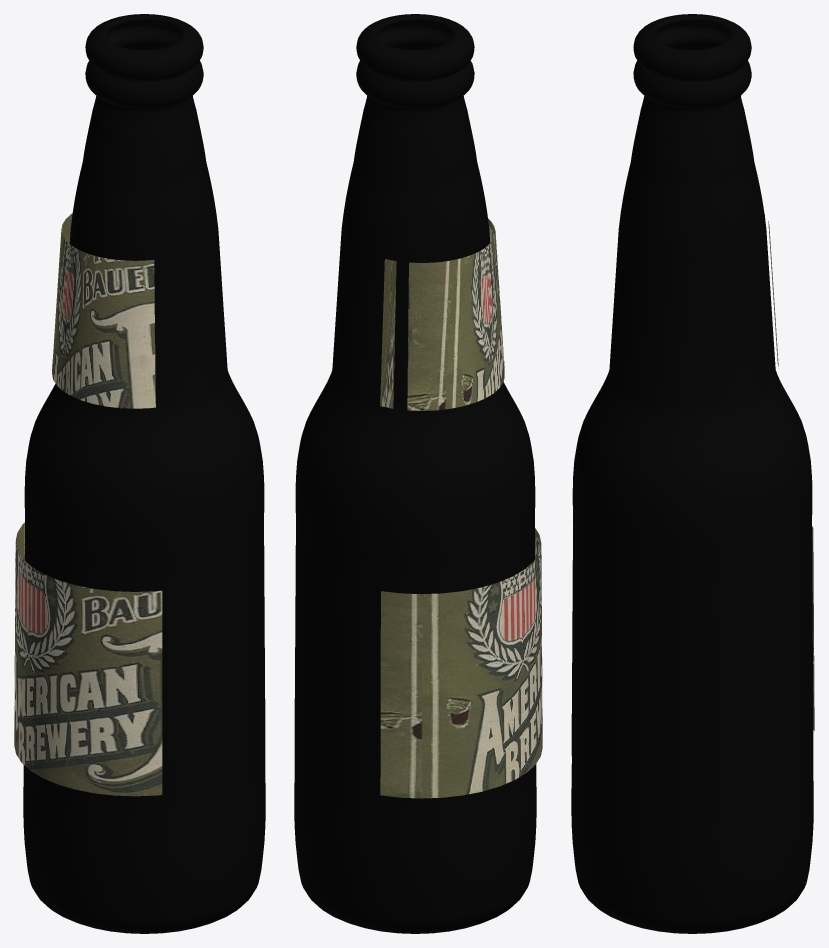
Rendered from bottle1.FBX.
The picture shows the model from 3 angles, left to right: view 1: azimuth 30°, elevation 25°; view 2: azimuth 150°, elevation 25°; view 3: azimuth 270°, elevation 25°; orthographic projection.
Visible parts, largest first — view 1: bottle001, label002; view 2: bottle001, label002; view 3: bottle001, label002.
Part boxes in pixels (<box>): bottle001: <box>23,14,265,933</box>; label002: <box>14,213,162,796</box>; bottle001: <box>294,14,536,933</box>; label002: <box>380,218,542,798</box>; bottle001: <box>571,14,813,933</box>; label002: <box>764,214,814,730</box>.
Size of the model in its own units: 45.33 by 171 by 43.9.
Materials: 2 (1 with a texture image).
